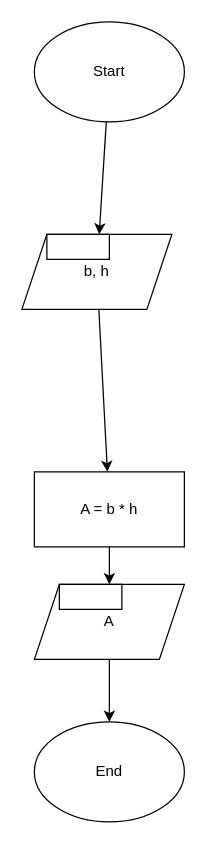
The diagram is 206 pixels wide and 844 high, and some of its shapes have lost their labels. The shapes that lost their labels are listed below. From the top down, each one's centre as x and y in pixels, then its label:
At point (77, 246): "write".
At point (90, 596): "print".
